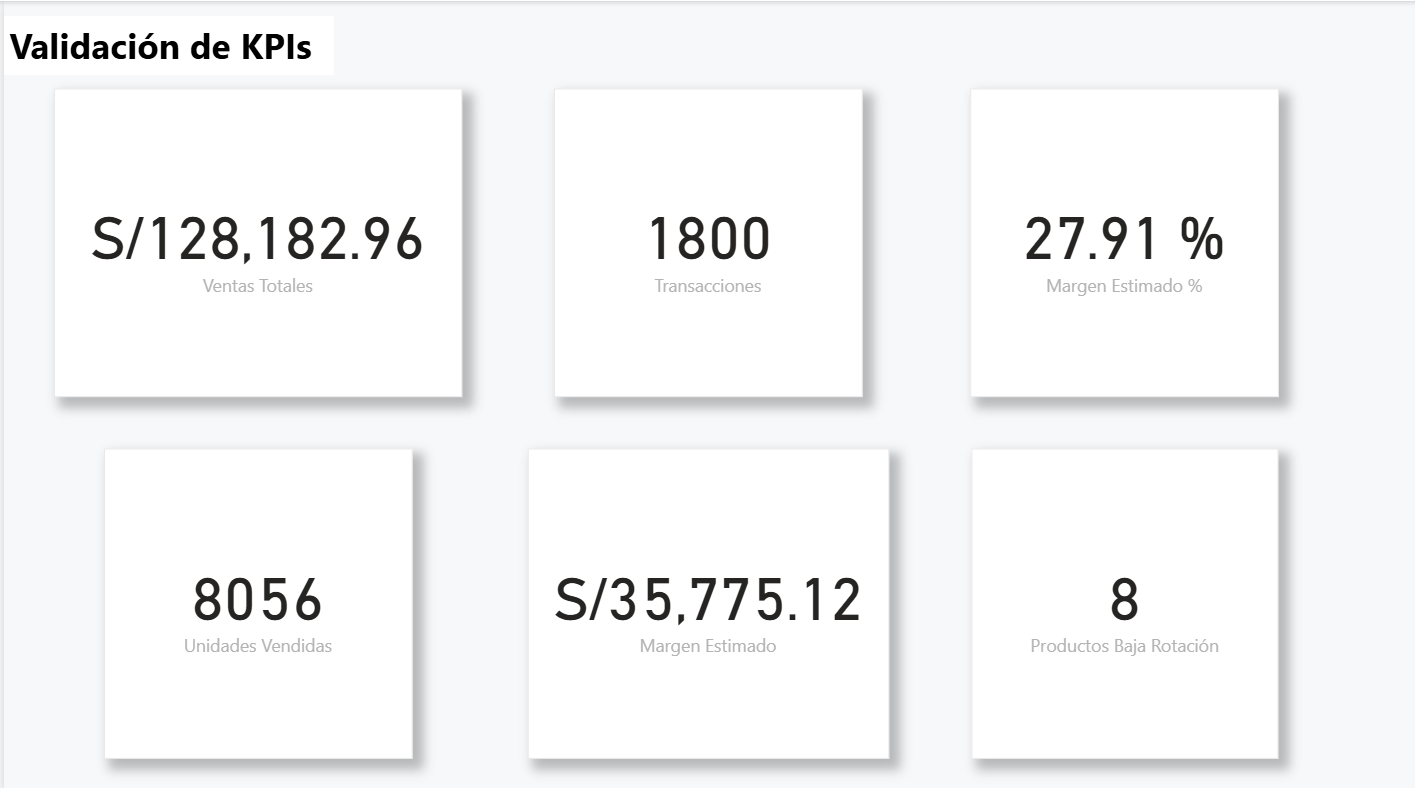

Layout of this report page (visuals, bound fields, positions):
{"tool":"powerbi","page":{"name":"Validación KPIs","canvas":[1280,720],"ordinal":0},"visuals":[{"type":"card","fields":{"Values":["Medidas.Ventas Totales"]},"box":[45.3,79.6,370.5,279.9],"z":0},{"type":"card","fields":{"Values":["Medidas.Unidades Vendidas"]},"box":[90.6,406.2,279.9,281.3],"z":1000},{"type":"card","fields":{"Values":["Medidas.Transacciones"]},"box":[499.5,79.6,279.9,279.9],"z":2000},{"type":"card","fields":{"Values":["Medidas.Margen Estimado"]},"box":[474.8,406.2,328,281.3],"z":3000},{"type":"card","fields":{"Values":["Medidas.Margen Estimado %","select1"]},"box":[876.8,79.6,279.9,279.9],"z":4000},{"type":"card","fields":{"Values":["Medidas.Productos Baja Rotación"]},"box":[878.2,406.2,278.6,281.3],"z":5000},{"type":"textbox","box":[0,13.7,299.1,53.5],"z":6000}]}

Visuals, with their boxes in screenshot pixels (x1, y1, x2, y2), scaled from the page's 1280x720 canvas onto the 1415x788 screenshot:
card - Medidas.Ventas Totales: pyautogui.locateOnScreen(50, 87, 460, 393)
card - Medidas.Unidades Vendidas: pyautogui.locateOnScreen(100, 445, 410, 752)
card - Medidas.Transacciones: pyautogui.locateOnScreen(552, 87, 862, 393)
card - Medidas.Margen Estimado: pyautogui.locateOnScreen(525, 445, 887, 752)
card - Medidas.Margen Estimado % x select1: pyautogui.locateOnScreen(969, 87, 1279, 393)
card - Medidas.Productos Baja Rotación: pyautogui.locateOnScreen(971, 445, 1279, 752)
textbox: pyautogui.locateOnScreen(0, 15, 331, 74)
